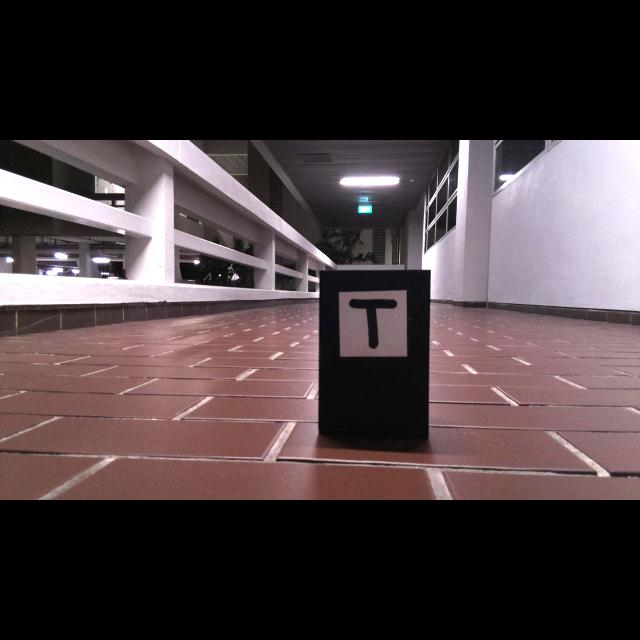T: (349, 298, 398, 348)
